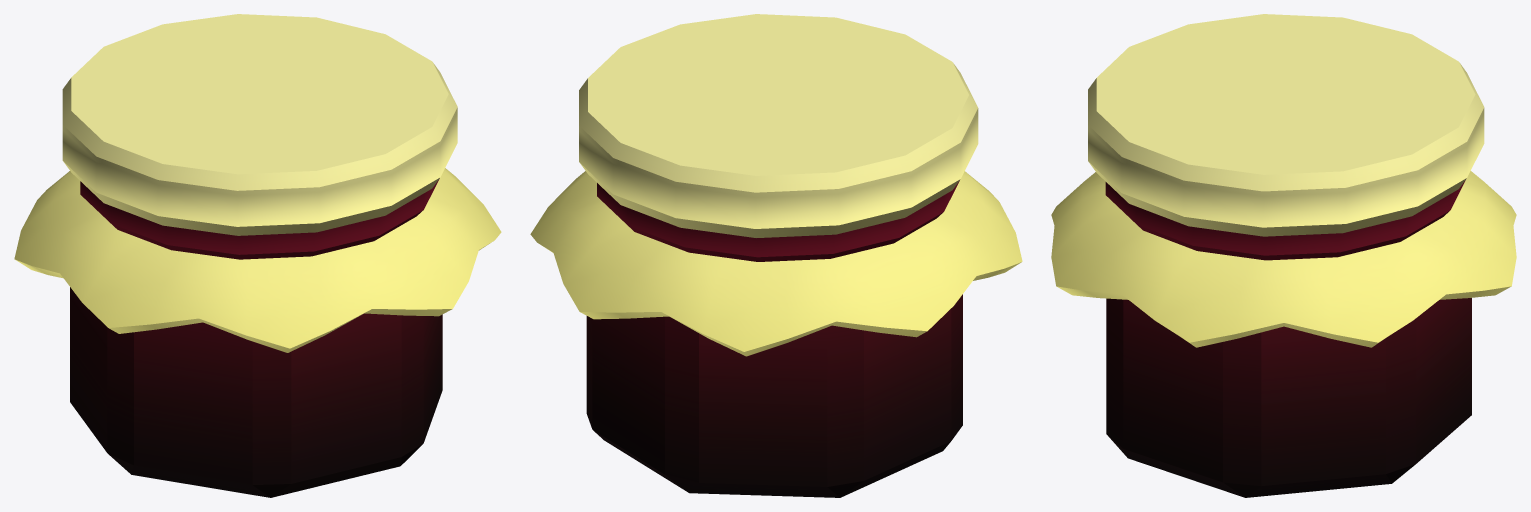
Rendered from jam_black.fbx.
3 views of the same model, side by side, from view 1: azimuth 30°, elevation 25°; view 2: azimuth 150°, elevation 25°; view 3: azimuth 270°, elevation 25° (orthographic).
Parts seen in each view (by area): view 1: jam_black; view 2: jam_black; view 3: jam_black.
Boxes of the visible parts, bbox=[...] form: jam_black: bbox=[14, 14, 501, 497]; jam_black: bbox=[530, 14, 1022, 497]; jam_black: bbox=[1051, 14, 1516, 497].
Size of the model in its own units: 78.24 by 61.62 by 78.24.
